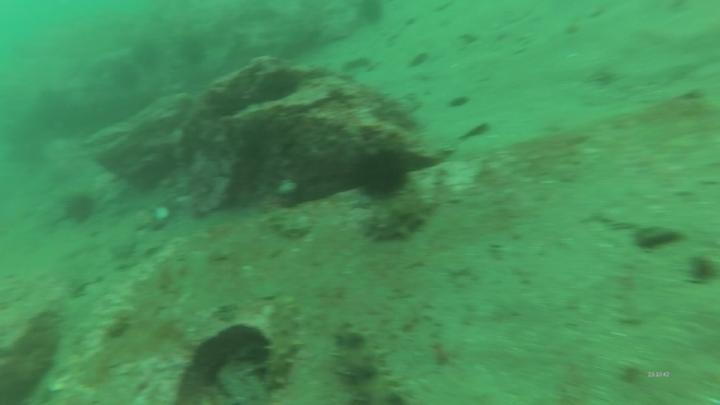echinus: (351, 143, 418, 206), (258, 65, 300, 105)
holothurian: (331, 321, 412, 405), (263, 294, 311, 392), (365, 190, 443, 247)
